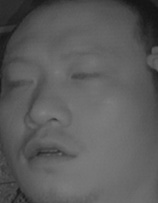blink: (70, 66, 102, 87), (5, 73, 34, 93)
mouth: (18, 132, 82, 173)
